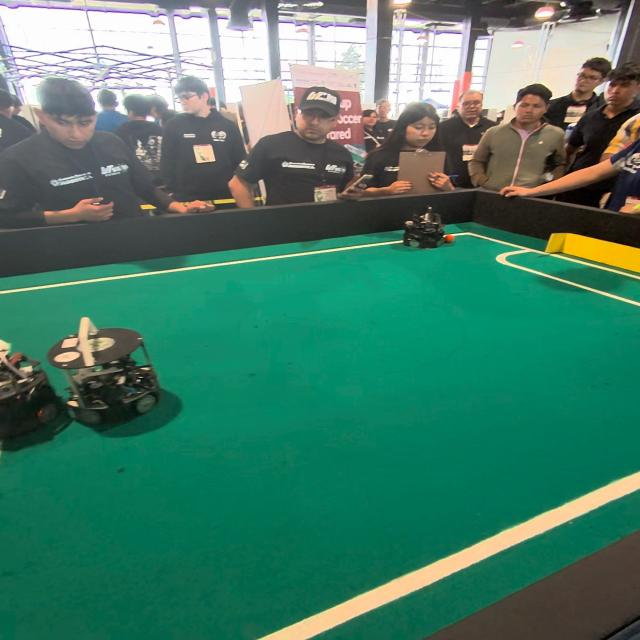Robot: (56, 311, 176, 439), (0, 332, 60, 455), (402, 204, 452, 252)
pelota: (438, 232, 464, 254)
